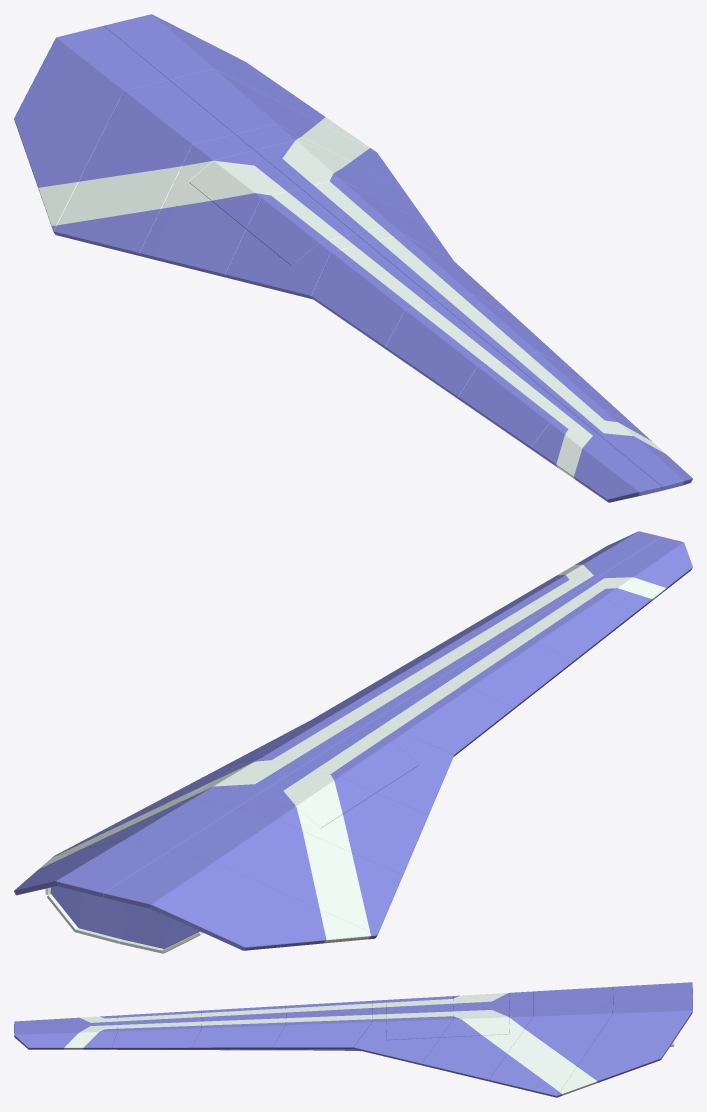
File: ark_nova12.fbx
3 views of the same model, one above another, from view 1: azimuth 30°, elevation 25°; view 2: azimuth 150°, elevation 25°; view 3: azimuth 270°, elevation 25° (orthographic). The views are drawn at different scales.
Visible parts, largest first — view 1: Armor Top, Armor Top Hatch; view 2: Armor Top, Armor Top Hatch, Hull, Armor Bottom Nozzle; view 3: Armor Top, Armor Top Hatch, Armor Bottom.
Part boxes in pixels (box(x1,y1,x2,y2)): Armor Top: box(14, 14, 692, 502); Armor Top Hatch: box(189, 140, 418, 266); Armor Top: box(14, 531, 692, 950); Armor Top Hatch: box(189, 723, 418, 828); Hull: box(50, 886, 199, 948); Armor Bottom Nozzle: box(45, 887, 203, 953); Armor Top: box(14, 982, 692, 1097); Armor Top Hatch: box(386, 993, 509, 1040); Armor Bottom: box(112, 1049, 333, 1050).
Bounding box in the file's own units: 424 × 111 × 1266.
